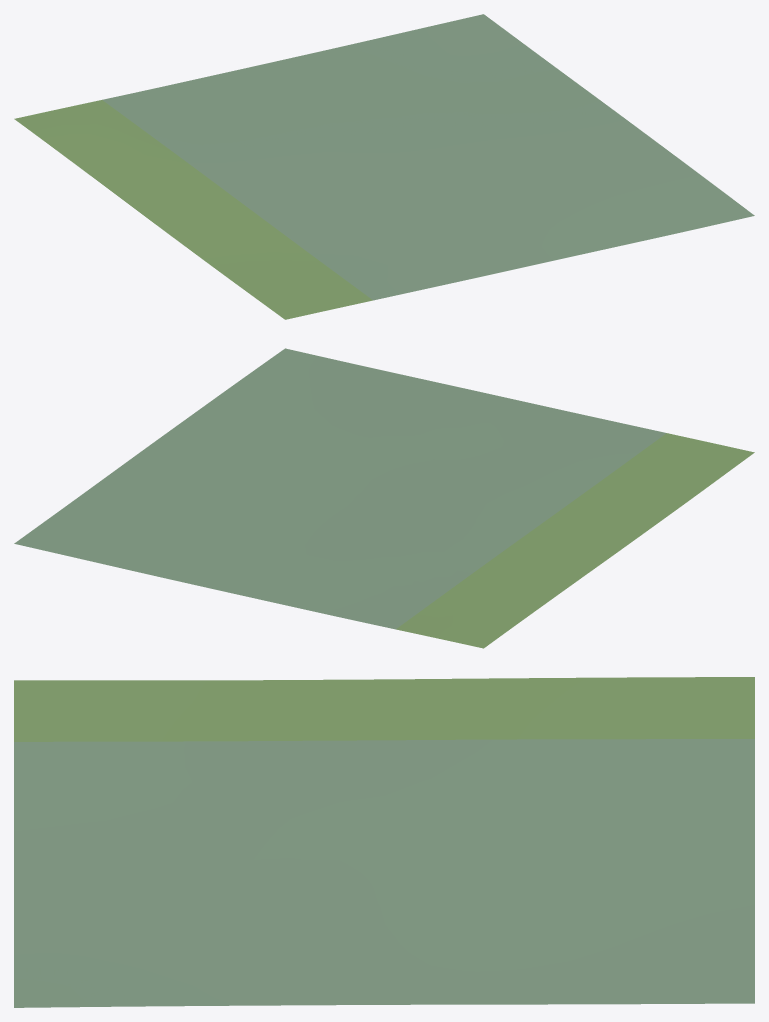
File: floor_001_chunk_x+02_z+17_collision.glb
The picture shows the model from 3 angles, top to bottom: view 1: azimuth 30°, elevation 25°; view 2: azimuth 150°, elevation 25°; view 3: azimuth 270°, elevation 25°; orthographic projection. The views are drawn at different scales.
Parts seen in each view (by area): view 1: floor_001_chunk_x+02_z+17_collision; view 2: floor_001_chunk_x+02_z+17_collision; view 3: floor_001_chunk_x+02_z+17_collision.
Part boxes in pixels (x1=…): floor_001_chunk_x+02_z+17_collision: x1=14, y1=14, x2=754, y2=319; floor_001_chunk_x+02_z+17_collision: x1=14, y1=348, x2=754, y2=648; floor_001_chunk_x+02_z+17_collision: x1=14, y1=677, x2=754, y2=1007.
Size of the model in its own units: 256 by 6.77 by 256.
